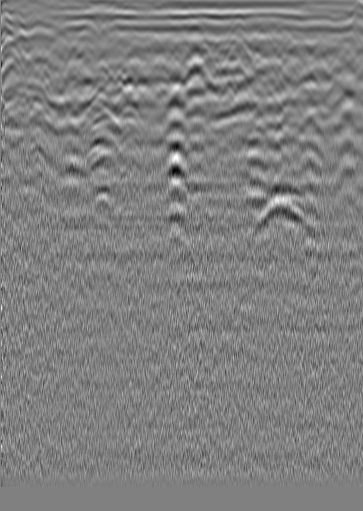가스: (82, 182, 117, 216)
상수: (314, 25, 334, 45)
오수: (30, 31, 50, 51)
우수: (186, 25, 206, 45)
